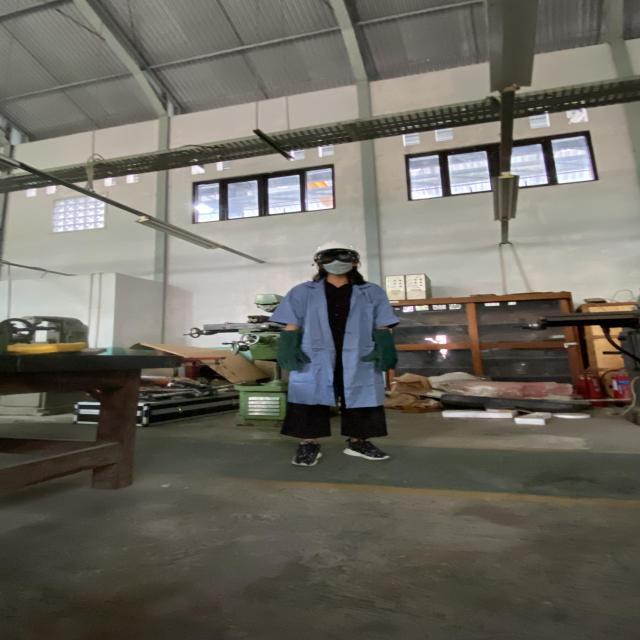glasses: (306, 250, 360, 264)
